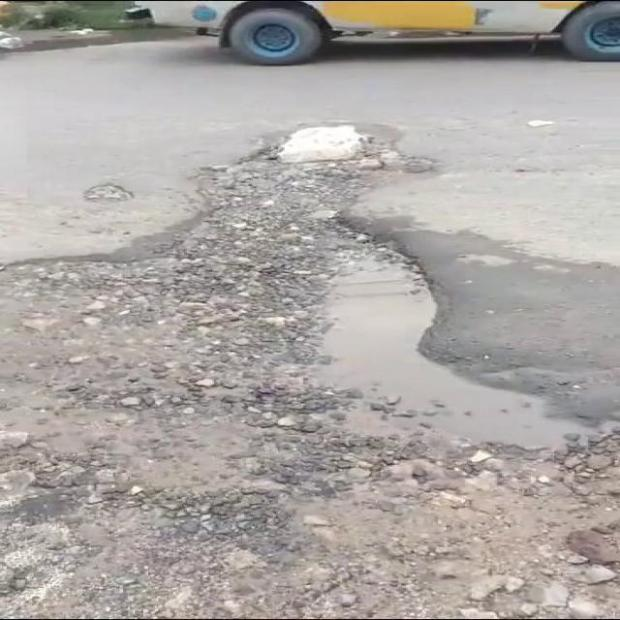lubang: (0, 156, 619, 616), (83, 182, 134, 203)
